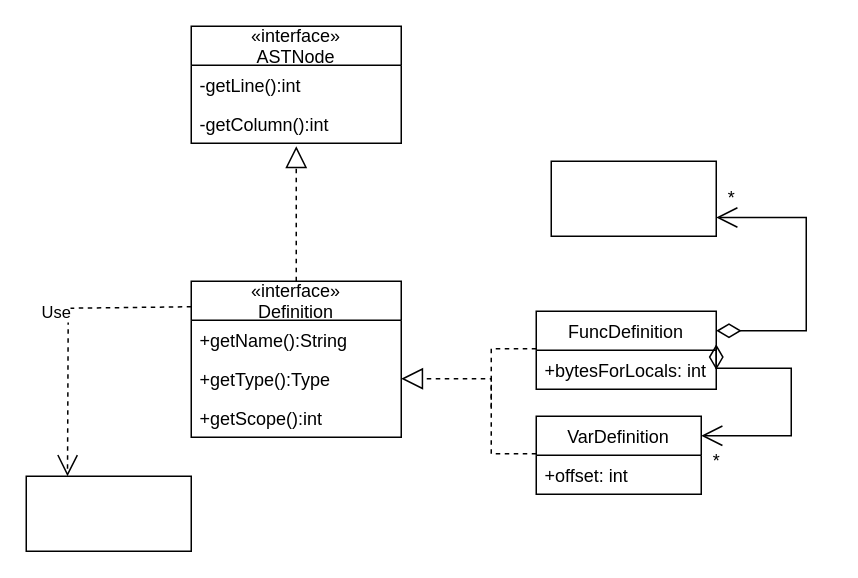
The diagram is 858 pixels wide and 578 high, and some of its shapes have lost their labels. The centre of each missing label's shape, as x and y in pixels:
"«interface» Statement" goes at point 633,198.
"«interface» Type" goes at point 108,513.
